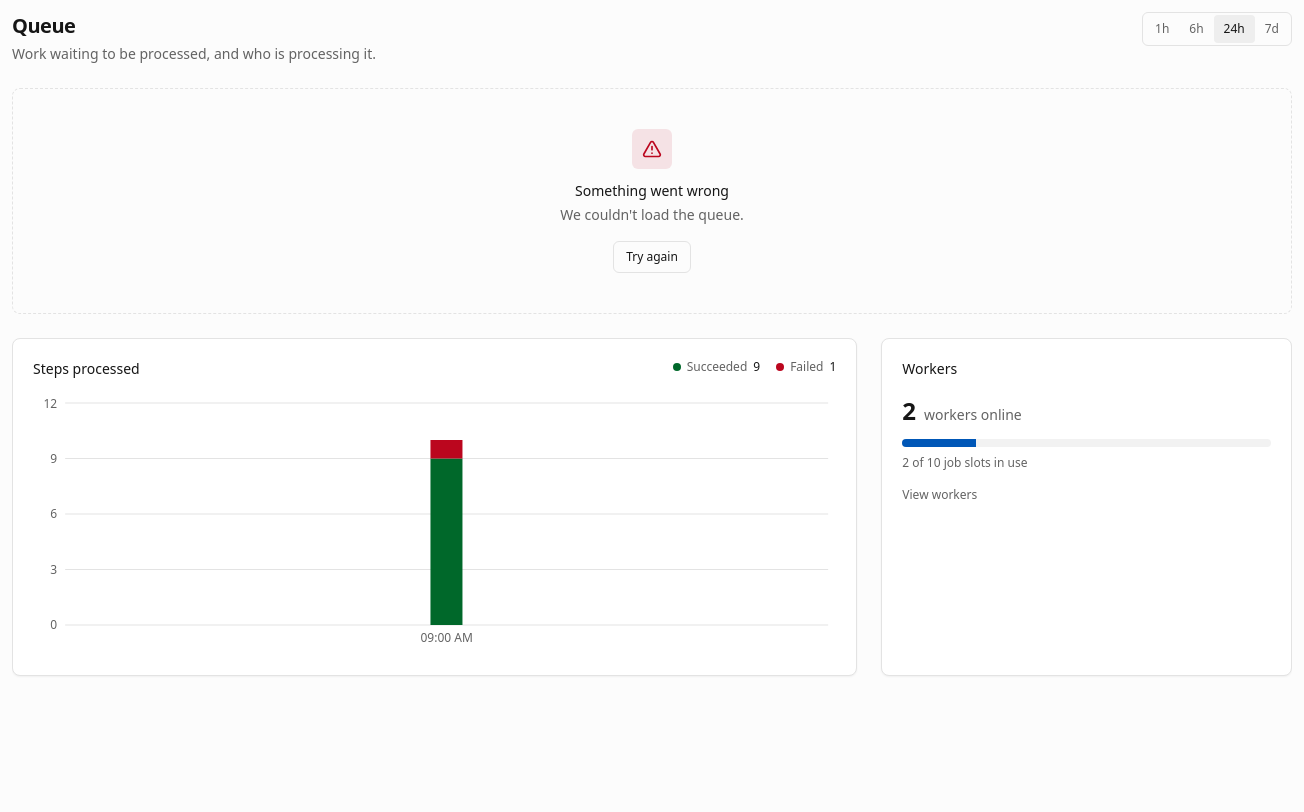
Scenario: QueuePage › shows an error with a retry when the queue cannot be read
What coordinates should you click on to do the following:
click the button "Try again"
I would click on:
 (652, 257)
Its box is 613,241 -> 691,273.
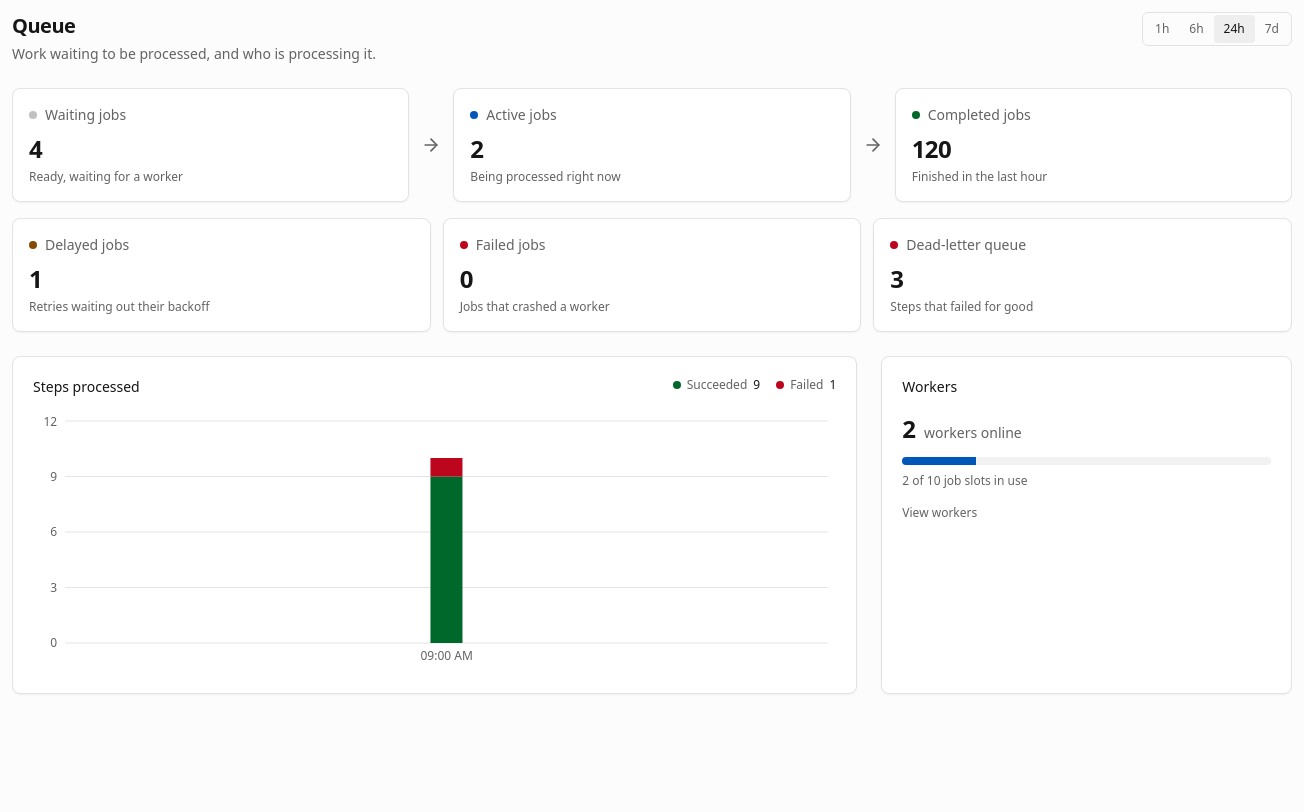
Now the text "4" is shown, box 29,132 -> 42,165
